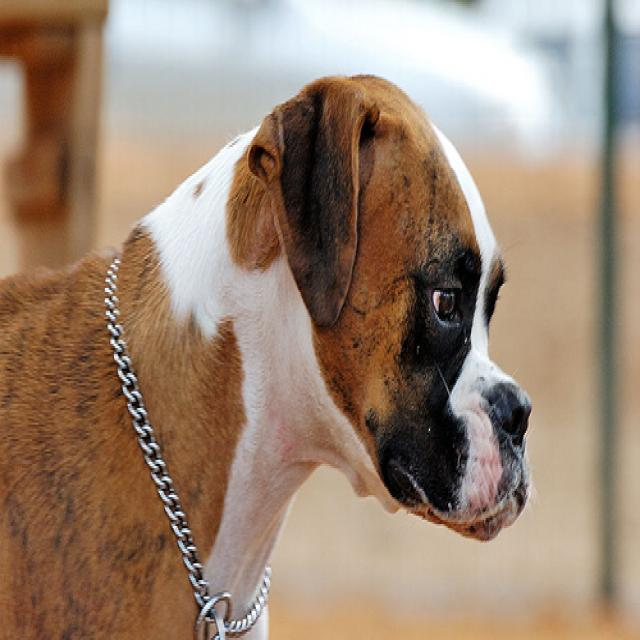dog-boxer: (1, 68, 538, 636)
